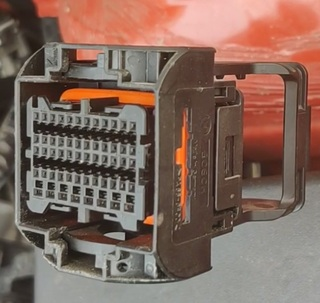connector: (14, 42, 245, 284)
